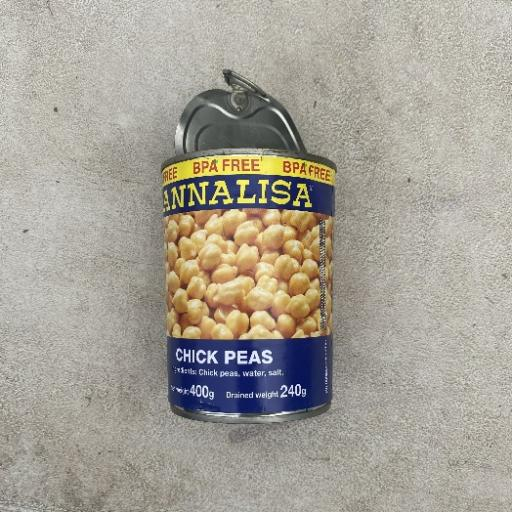Metal: (158, 67, 339, 424)
